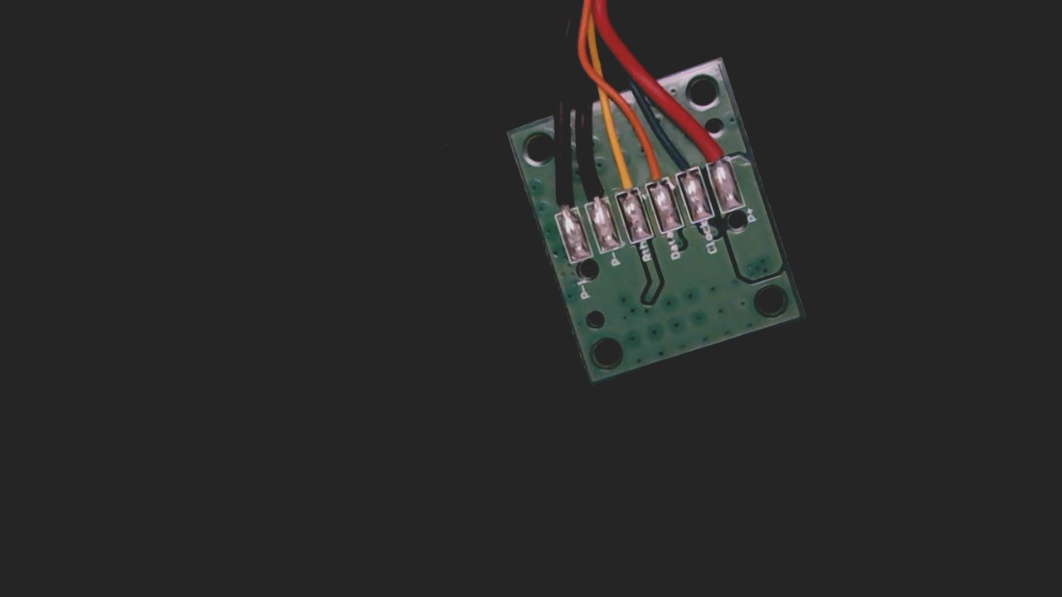Black: (568, 157, 615, 223)
Black1: (539, 170, 584, 232)
Green: (660, 134, 707, 198)
Orange: (630, 136, 675, 201)
Red: (689, 121, 735, 185)
Yellow: (597, 144, 644, 211)
